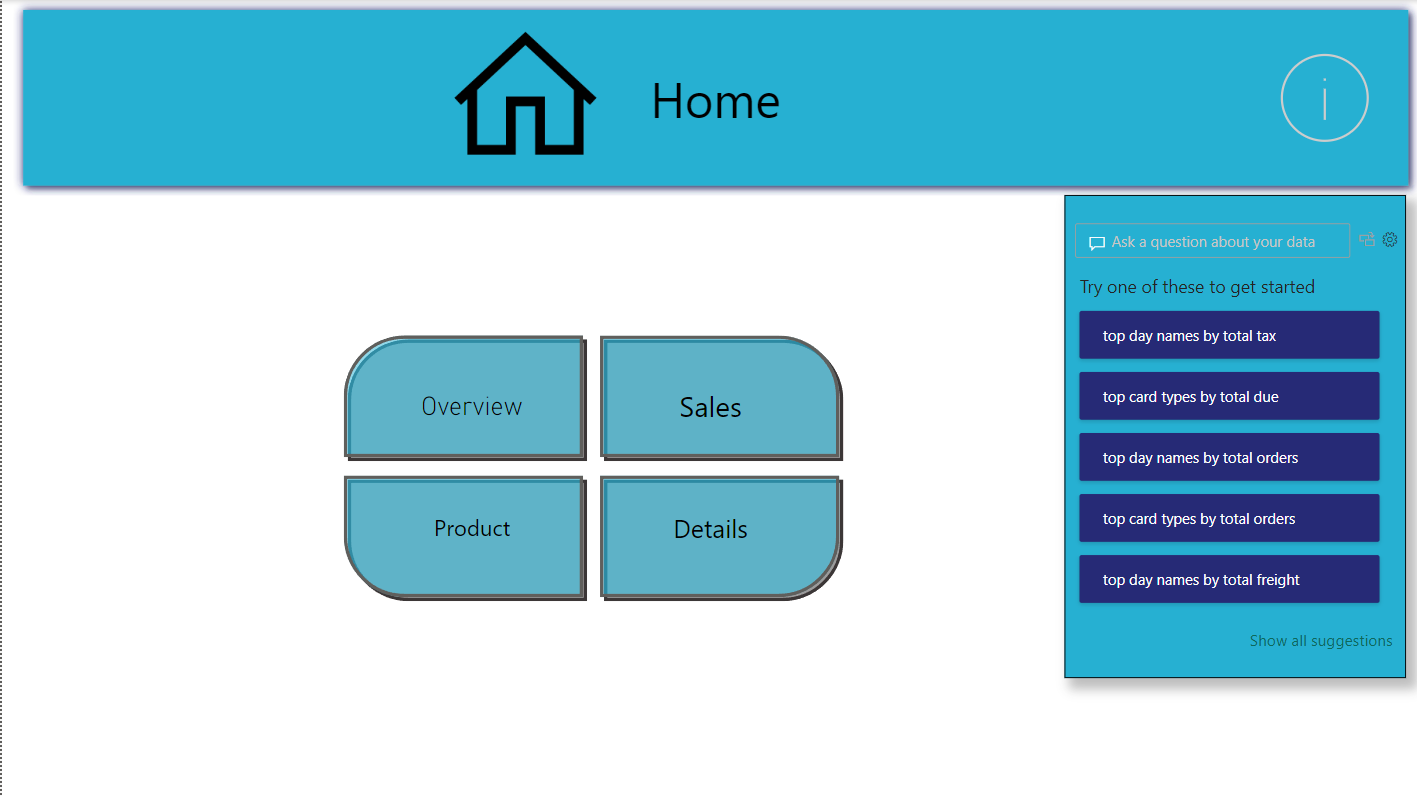

The dashboard page shown, as its layout file describes it:
{"tool":"powerbi","page":{"name":"Home","canvas":[1280,720],"ordinal":0},"visuals":[{"type":"shape","box":[10.5,0,1270,176.6],"z":0},{"type":"image","box":[367.2,12.8,211.5,149.9],"z":1000},{"type":"qnaVisual","box":[960.9,176.6,309.1,436.9],"z":2000},{"type":"actionButton","box":[304.4,298.2,226,120],"z":3000},{"type":"actionButton","box":[304.4,424.8,226,120],"z":4000},{"type":"actionButton","box":[535.7,298.2,226,120],"z":5000},{"type":"actionButton","box":[535.7,425.3,226,120],"z":6000},{"type":"actionButton","title":"Info","box":[1145.7,30.2,99.9,116.2],"z":7000}]}

Visuals, with their boxes in screenshot pixels (x1, y1, x2, y2), scaled from the page's 1280x720 canvas onto the 1417x796 screenshot:
shape: Rect(12, 0, 1416, 195)
image: Rect(407, 14, 641, 180)
qnaVisual: Rect(1064, 195, 1406, 678)
actionButton: Rect(337, 330, 587, 462)
actionButton: Rect(337, 470, 587, 602)
actionButton: Rect(593, 330, 843, 462)
actionButton: Rect(593, 470, 843, 603)
"Info" actionButton: Rect(1268, 33, 1379, 162)
